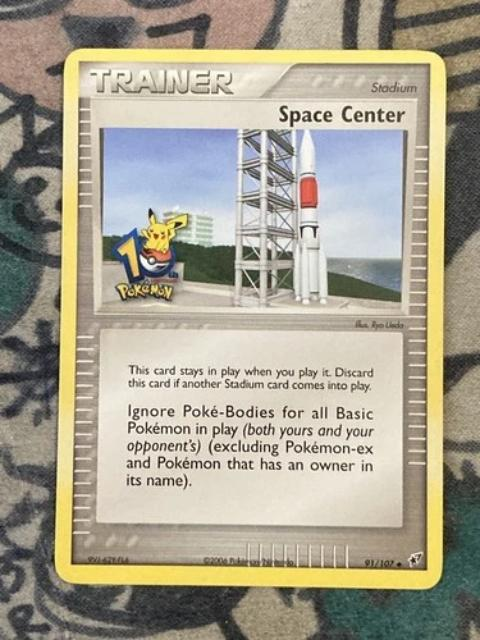Card: (49, 43, 451, 596)
Name: (273, 98, 411, 129)
